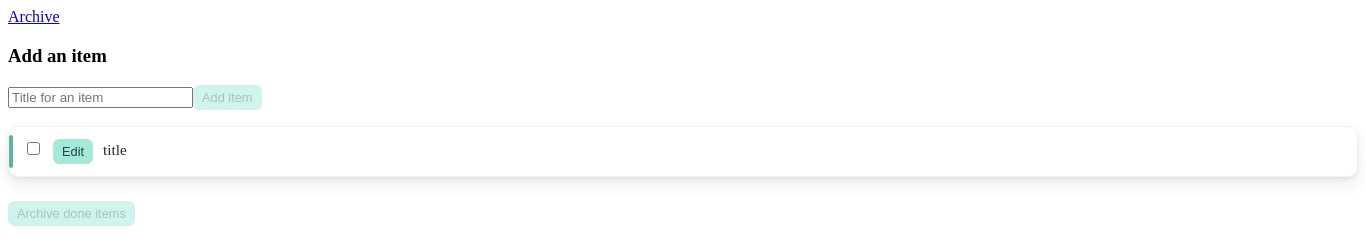
it: TodoPage › should not change the item title on buttonOnClick error
Click the button "Edit" at (73, 152), box [53,139,93,164]
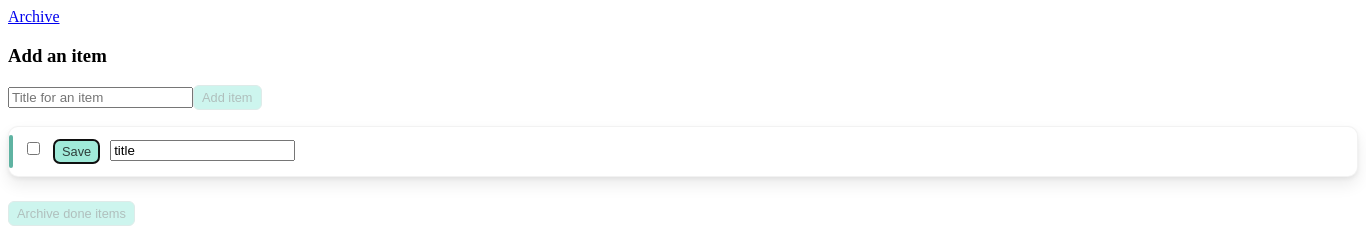
Type "new" into the field named "Todo title" at (203, 151), box [110,140,295,161]
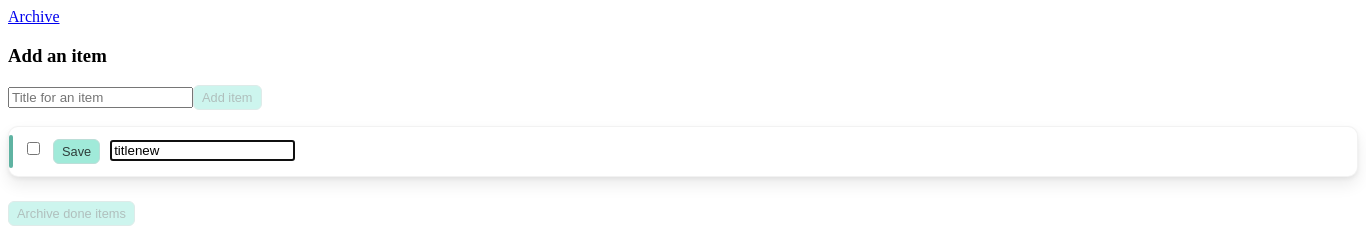
Click the button "Save" at (77, 152), box [53,139,100,164]
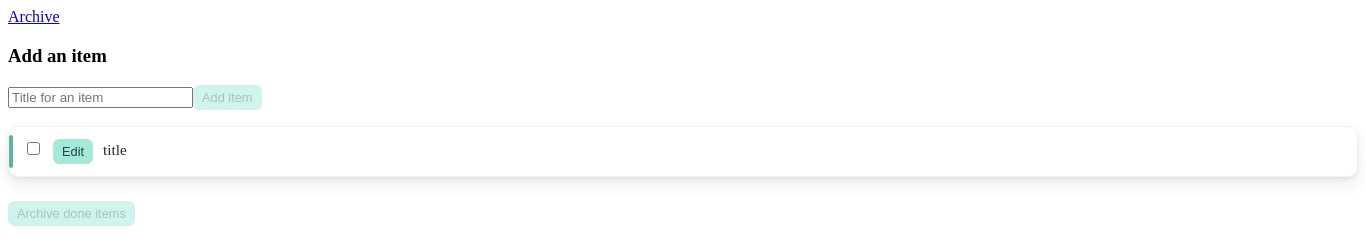
Expected: the text "title" is shown, [103,141,127,158]
